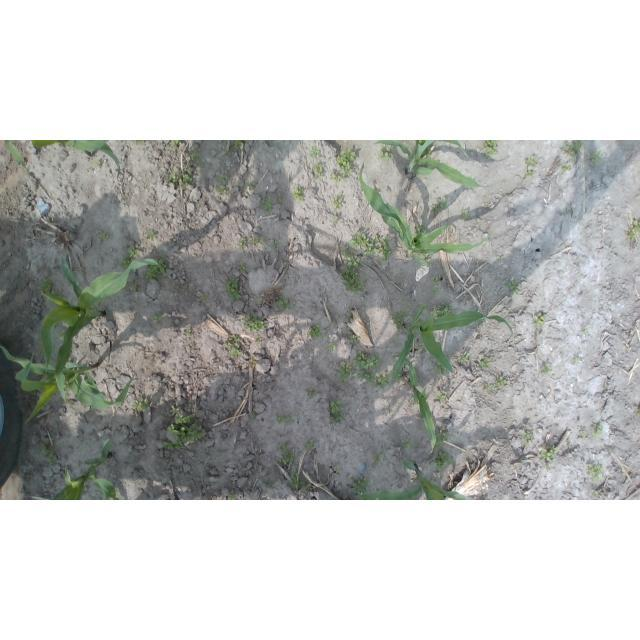Maize: (36, 253, 165, 408), (357, 161, 489, 267), (0, 344, 132, 424), (389, 302, 515, 382), (374, 140, 498, 190), (353, 457, 471, 500), (4, 141, 120, 182), (391, 352, 437, 455), (49, 438, 115, 500)
Weeds: (163, 404, 206, 451), (340, 247, 365, 296), (119, 243, 141, 273), (353, 351, 384, 372), (350, 231, 374, 257), (336, 148, 356, 177), (146, 259, 171, 281), (166, 171, 194, 190), (390, 307, 411, 332), (242, 311, 265, 333), (375, 235, 394, 261), (277, 442, 297, 466), (539, 446, 558, 471), (337, 361, 357, 384), (433, 449, 453, 472), (40, 444, 59, 467), (223, 334, 241, 358), (223, 276, 241, 300), (562, 141, 582, 162), (435, 425, 453, 448), (349, 477, 370, 496), (586, 463, 606, 482), (433, 302, 452, 320), (37, 278, 57, 295), (187, 145, 202, 167), (275, 296, 294, 313), (330, 401, 344, 423), (482, 140, 499, 158), (431, 197, 447, 216), (378, 144, 395, 161), (626, 219, 640, 239), (131, 399, 152, 412), (309, 322, 324, 340), (357, 369, 376, 383), (520, 427, 534, 446), (373, 375, 390, 390), (506, 280, 521, 296), (331, 193, 344, 211), (329, 170, 346, 183), (289, 468, 299, 490), (589, 151, 603, 166), (291, 186, 305, 201), (346, 331, 360, 346), (492, 377, 507, 391), (276, 413, 295, 424), (312, 163, 325, 179), (436, 361, 449, 377), (534, 312, 547, 328), (260, 197, 272, 213), (434, 390, 449, 402), (590, 423, 602, 438), (524, 154, 537, 167), (419, 252, 433, 264), (371, 452, 381, 468), (458, 352, 470, 365), (479, 356, 492, 368), (37, 341, 46, 356), (309, 145, 320, 157), (226, 489, 238, 500), (299, 481, 311, 492), (237, 238, 247, 251), (216, 185, 229, 195), (304, 438, 314, 451), (63, 380, 72, 394), (416, 223, 427, 234), (459, 210, 471, 220), (150, 311, 162, 321), (306, 389, 318, 399), (422, 145, 431, 158), (98, 232, 111, 241), (401, 439, 414, 448), (249, 236, 263, 244), (145, 229, 156, 239), (590, 489, 601, 499), (269, 240, 281, 249), (218, 174, 230, 183), (244, 182, 256, 191), (132, 281, 142, 291), (183, 327, 193, 337), (541, 363, 551, 373), (431, 276, 442, 285), (572, 357, 583, 366), (58, 330, 66, 342), (236, 264, 248, 272), (523, 170, 535, 178), (327, 343, 336, 352), (171, 140, 181, 148), (91, 157, 98, 168), (431, 287, 440, 295), (563, 163, 572, 171), (582, 326, 590, 335), (482, 384, 491, 392), (267, 482, 276, 490), (255, 336, 263, 344), (234, 141, 243, 148), (347, 308, 354, 317), (415, 141, 427, 146), (130, 140, 145, 144), (634, 407, 640, 417), (200, 295, 208, 302), (478, 321, 486, 328), (251, 412, 257, 421), (418, 343, 425, 350), (387, 407, 394, 414), (579, 431, 586, 438), (275, 193, 281, 201), (397, 374, 403, 382), (332, 217, 338, 224), (334, 466, 340, 473), (249, 360, 257, 365), (189, 343, 195, 349), (499, 256, 504, 262)
